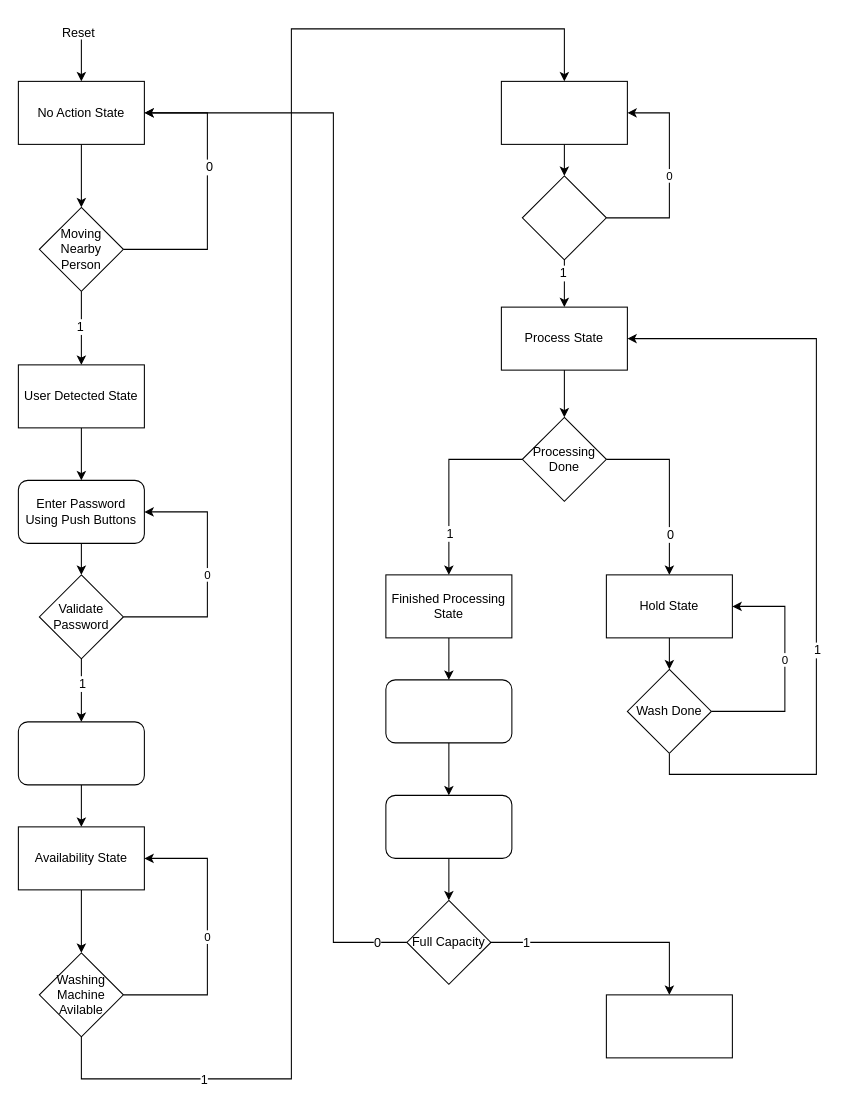
The diagram is 843 pixels wide and 1106 high, and some of its shapes have lost their labels. The shapes that lost their labels are listed below. From the top down, each one's centre as x and y in pixels, then its label:
At [563,112]: "Payment State".
At [563,217]: "Paid".
At [448,711]: "Start Button Enabled".
At [80,753]: "Enable Memory".
At [448,826]: "Laundry Room Washing Machines Capacity ++".
At [668,1026]: "Full State".
